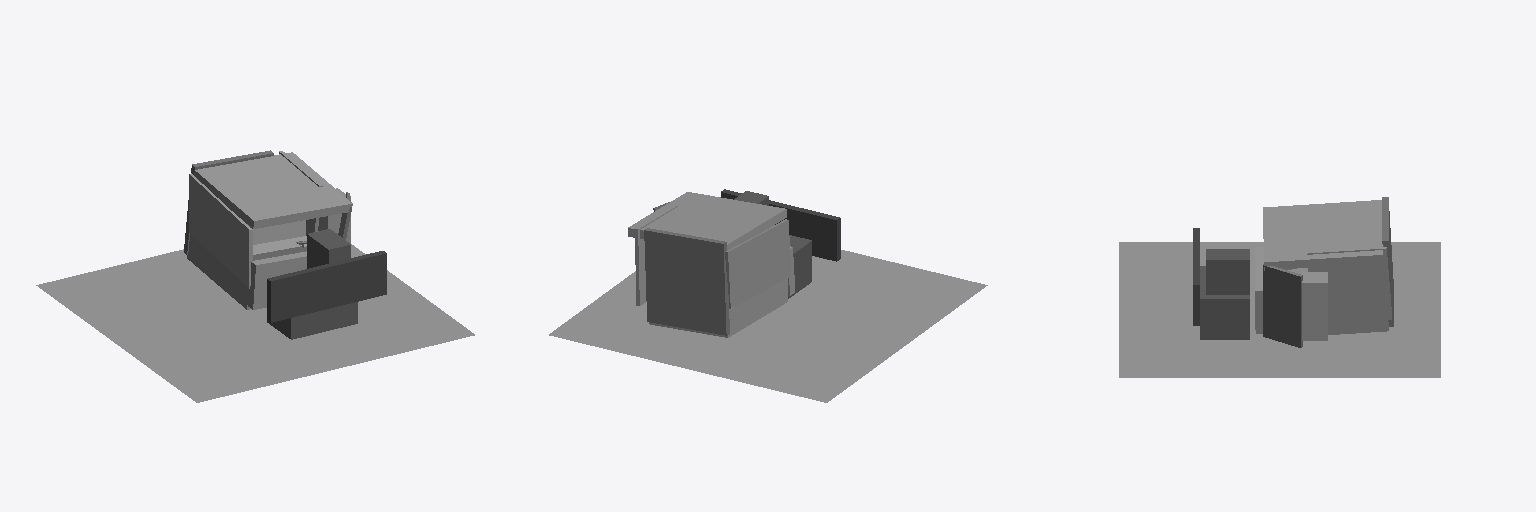
File: truck_spider13.obj
3 renders of one model, left to right at view 1: azimuth 30°, elevation 25°; view 2: azimuth 150°, elevation 25°; view 3: azimuth 270°, elevation 25°, orthographic.
Parts seen in each view (by area): view 1: Plane, Cube.038, Cube.000_Cube.039, Cube.010, Cube.001_Cube.012, Cube.002, Cube.005, Cube.012_Cube.040, Cube.000_Cube.001, Cube.017, Cube.066; view 2: Plane, Cube.066, Cube.038, Cube.010, Cube.000_Cube.039, Cube.005, Cube.001_Cube.012, Cube.011; view 3: Plane, Cube.038, Cube.011, Cube.071, Cube.001_Cube.012, Cube.012_Cube.040, Cube.035, Cube.066, Cube.002, Cube.005, Cube.000_Cube.039.
Part boxes in pixels (x1,y1,x2,y2): Plane: (36,244,474,402); Cube.038: (194,152,352,228); Cube.000_Cube.039: (267,251,386,322); Cube.010: (189,173,252,288); Cube.001_Cube.012: (247,224,357,339); Cube.002: (248,251,306,309); Cube.005: (187,234,250,309); Cube.012_Cube.040: (307,229,350,268); Cube.000_Cube.001: (251,220,305,244); Cube.017: (253,236,306,260); Cube.066: (184,150,273,254); Plane: (549,250,987,402); Cube.066: (644,228,729,335); Cube.038: (628,192,786,250); Cube.010: (725,219,790,308); Cube.000_Cube.039: (721,189,840,261); Cube.005: (649,278,787,337); Cube.001_Cube.012: (788,235,811,298); Cube.011: (635,205,677,305); Plane: (1119,242,1440,377); Cube.038: (1263,200,1383,270); Cube.011: (1307,247,1391,323); Cube.071: (1263,264,1302,347); Cube.001_Cube.012: (1200,266,1249,339); Cube.012_Cube.040: (1206,249,1249,294); Cube.035: (1302,272,1327,340); Cube.066: (1382,197,1393,326); Cube.002: (1255,247,1263,333); Cube.005: (1288,270,1388,334); Cube.000_Cube.039: (1193,228,1199,325).
Bounding box in the file's own units: 10 × 3.71 × 10.